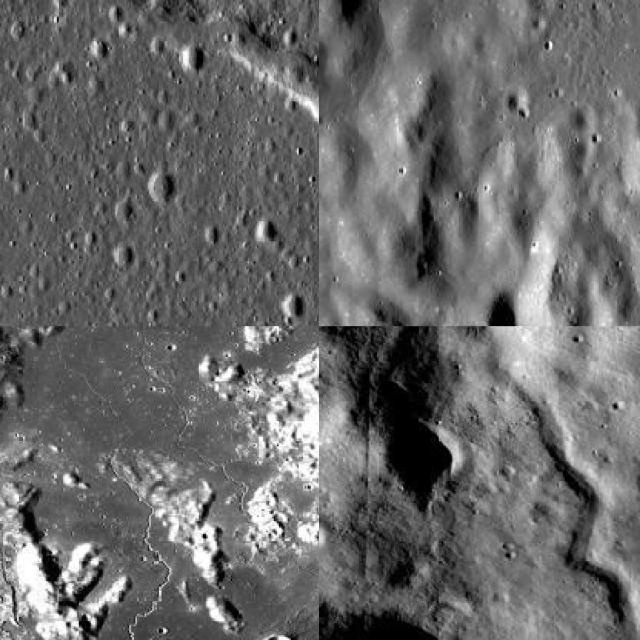crater: (494, 344, 640, 638), (52, 326, 174, 639), (137, 326, 254, 523), (223, 28, 320, 148), (275, 471, 320, 638), (1, 208, 57, 324)
